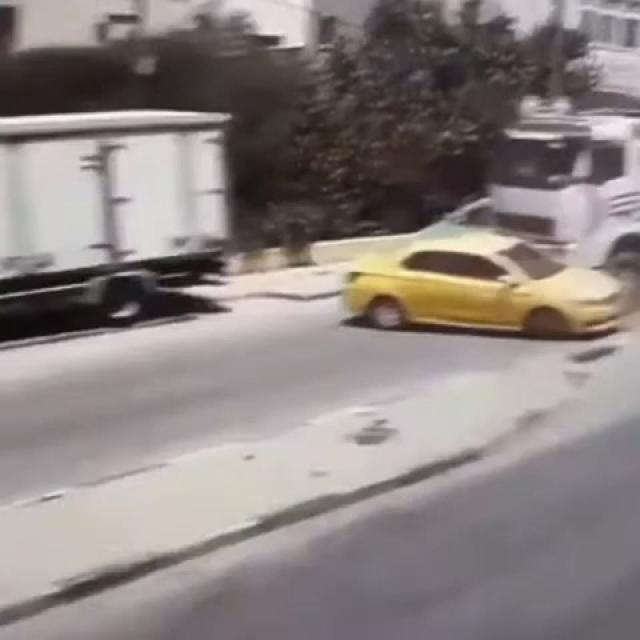accident: (343, 110, 640, 343)
